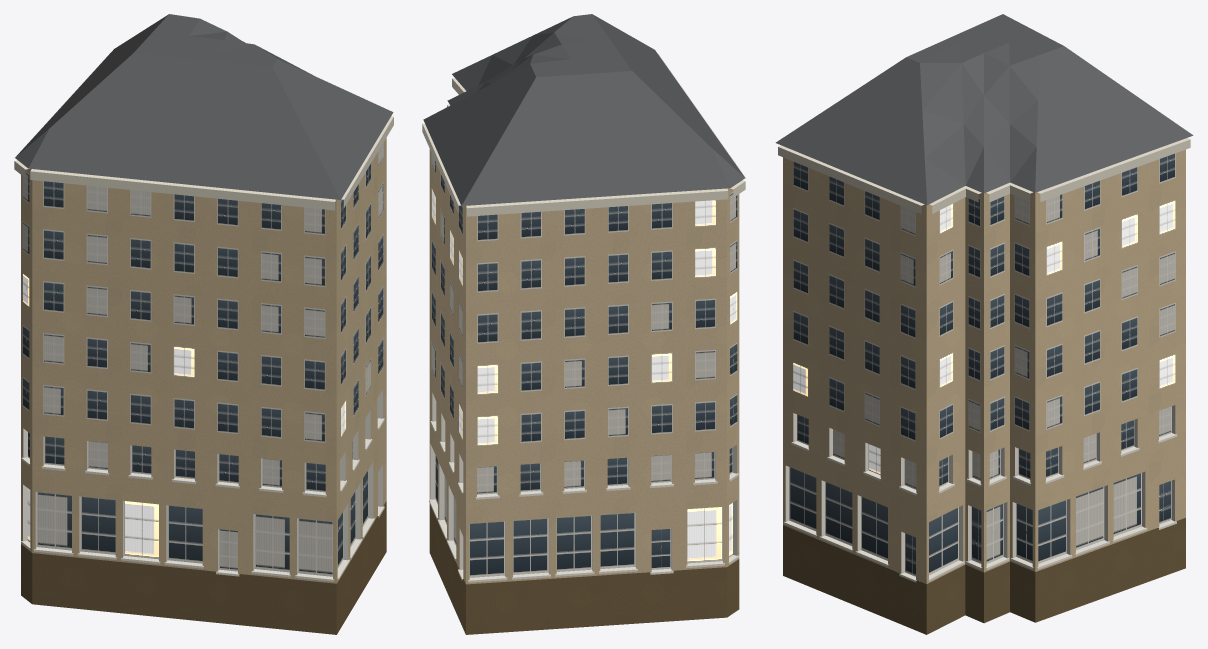
Rendered from ida8.glb.
3 views of the same model, side by side, from view 1: azimuth 30°, elevation 25°; view 2: azimuth 150°, elevation 25°; view 3: azimuth 270°, elevation 25° (orthographic).
Visible parts, largest first — view 1: ida8; view 2: ida8; view 3: ida8.
Boxes of the visible parts, x1,y1,x2,y2 form: ida8: (14, 14, 393, 634); ida8: (422, 14, 746, 634); ida8: (775, 14, 1193, 634).
Size of the model in its own units: 20.42 by 30.64 by 22.45.
Materials: 3 (3 with a texture image).
